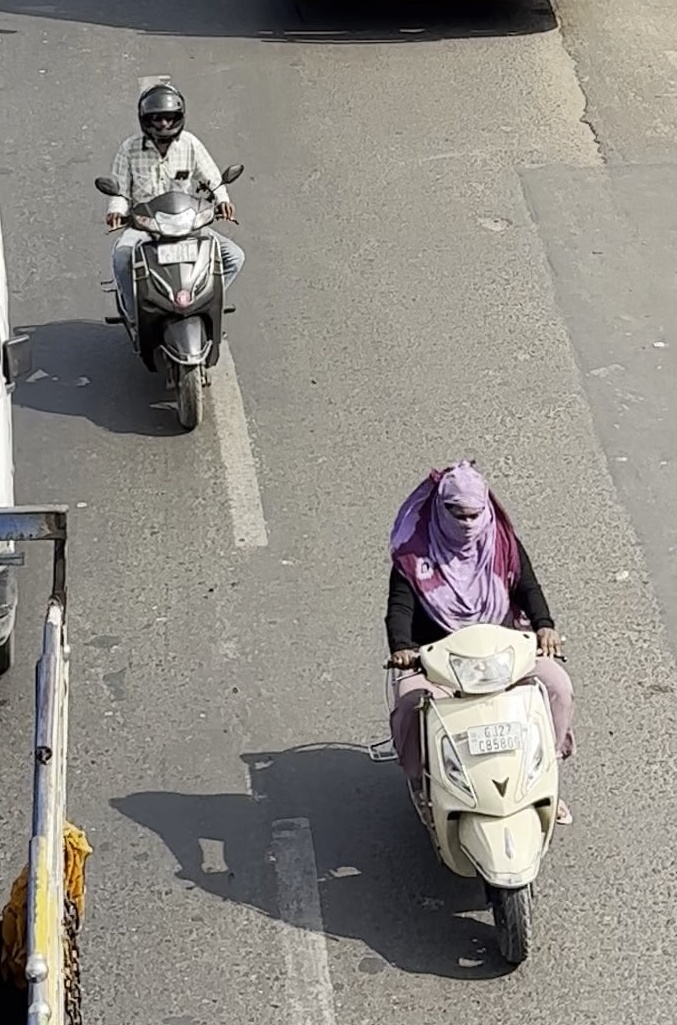BikeWithRider: (369, 451, 600, 963), (89, 76, 266, 431)
Helmet: (126, 73, 195, 147)
NoHelmet: (420, 458, 498, 563)
